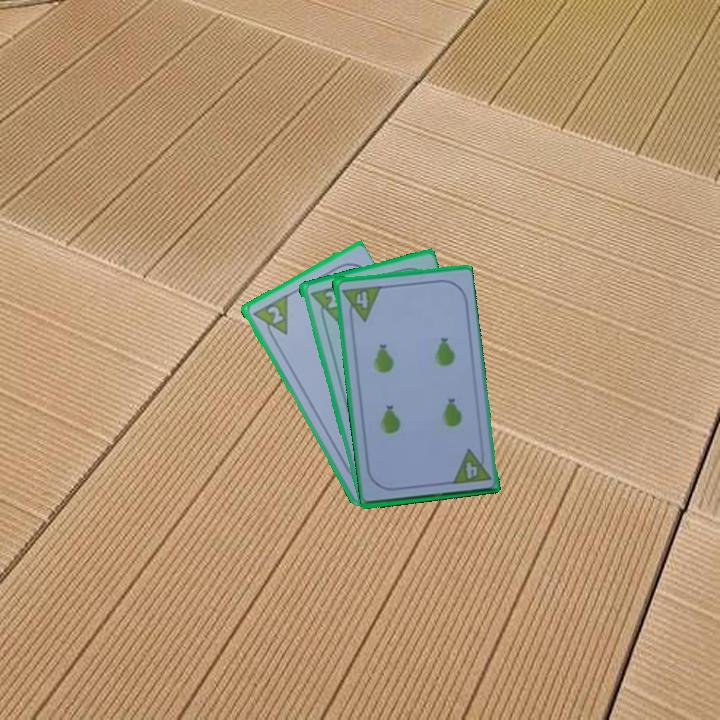2p: (248, 292, 291, 344), (306, 280, 350, 327)
4p: (338, 281, 383, 324), (449, 444, 493, 487)
